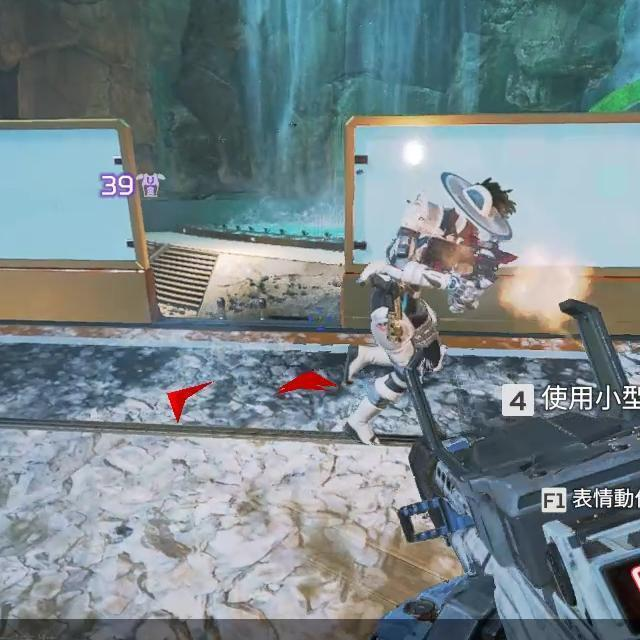avatar: (369, 170, 515, 447)
